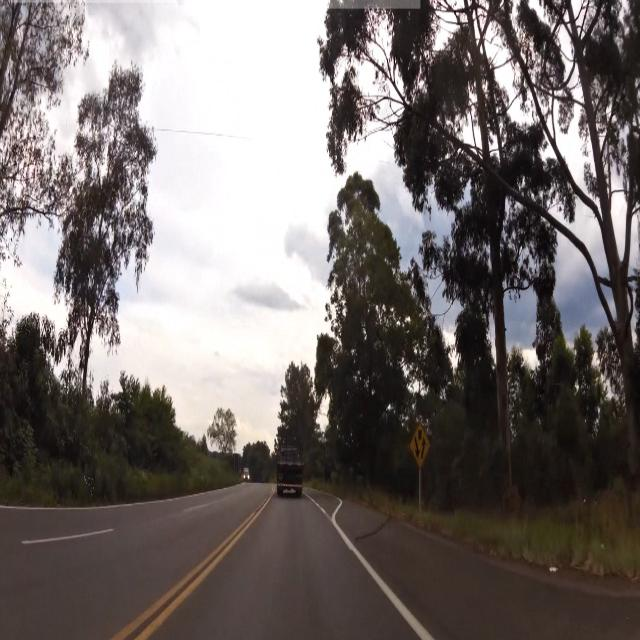A-42a: (408, 421, 432, 468)
